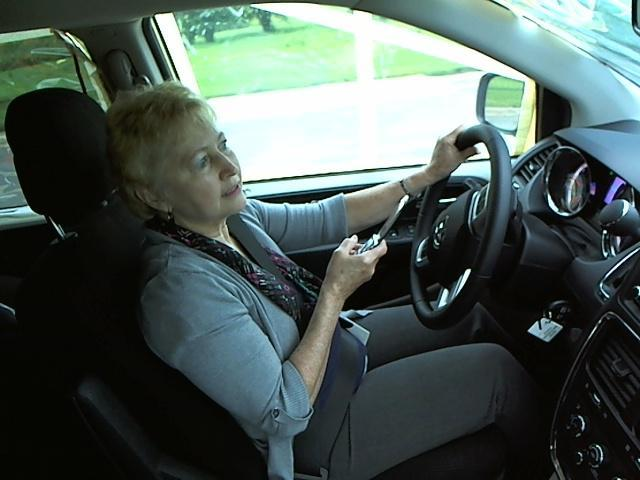PhoneUse: (349, 192, 419, 264)
